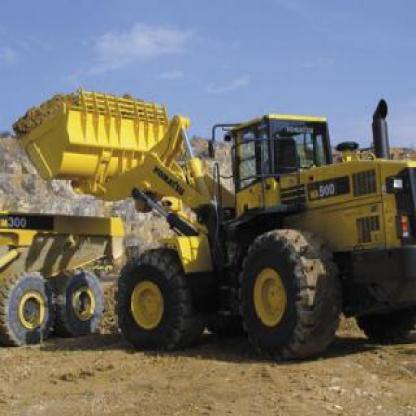bull_dozer/loader/grader: (7, 87, 414, 364)
